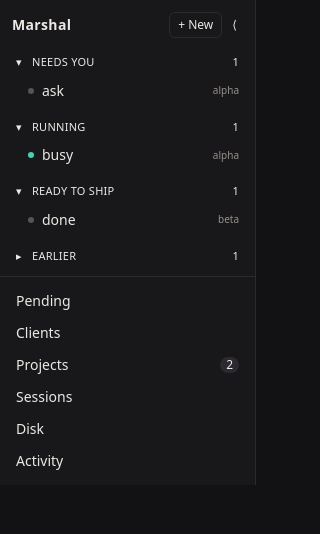
Scenario: Sidebar groups › groups agents by what they need, with Earlier collapsed by default
Expected: the text "Needs you" is shown, [32,54,95,70]
Expected: the text "Running" is shown, [32,118,86,135]
What coordinates should you click on to do the following:
click the text "Earlier"
I would click on:
 (54, 256)
Its box is [32,248,76,264].
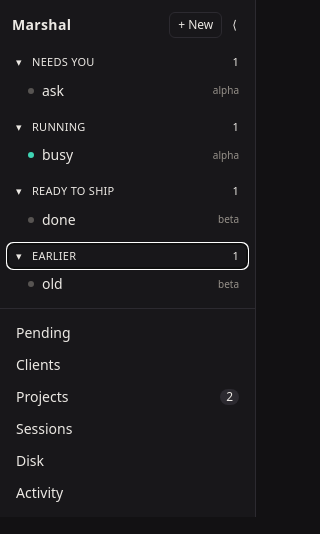
Expected: the text "old" is shown, [42,274,63,294]
